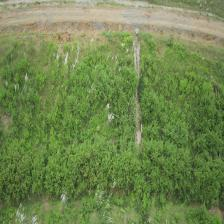vegetation: (146, 80, 223, 212), (2, 141, 135, 210)
